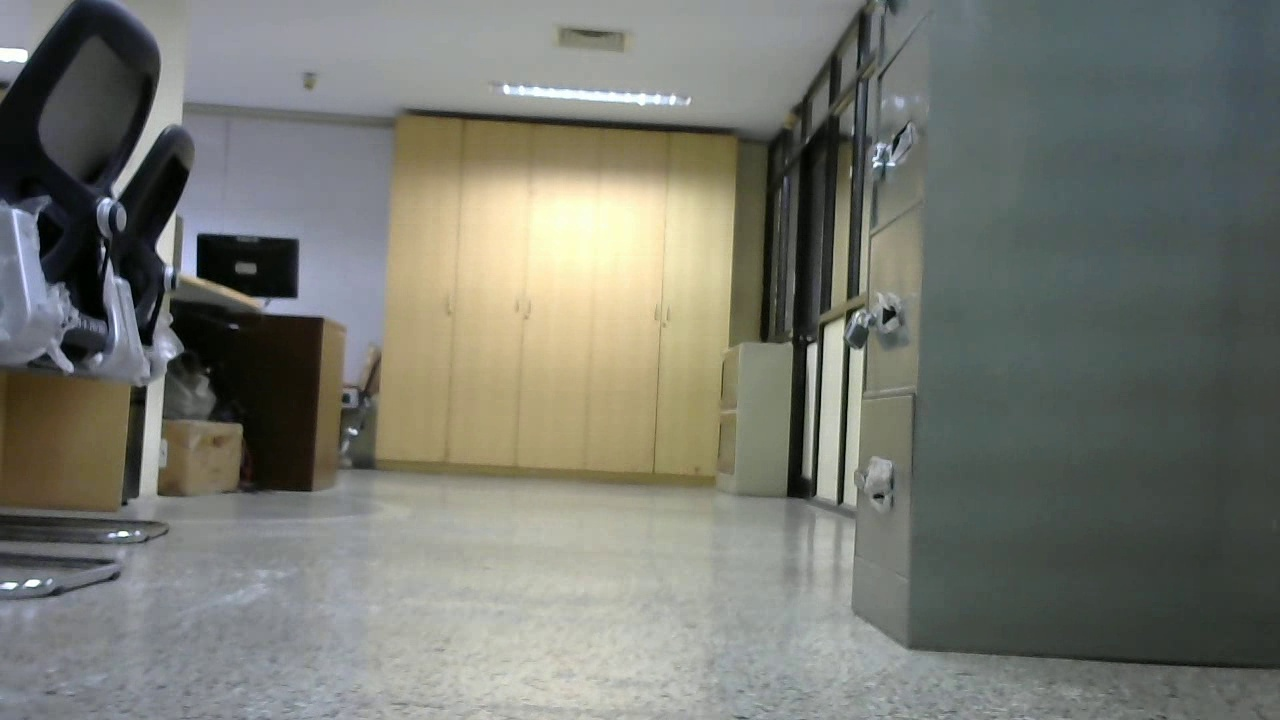chair: (1, 4, 159, 591)
